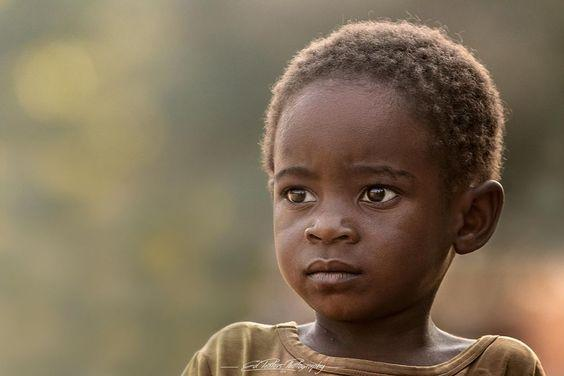Healthy: (261, 78, 479, 327)
